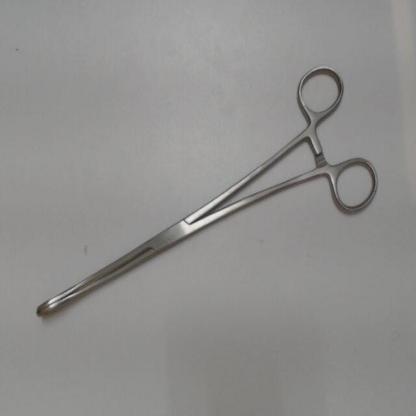Sponge Forceps: (27, 57, 380, 328)
